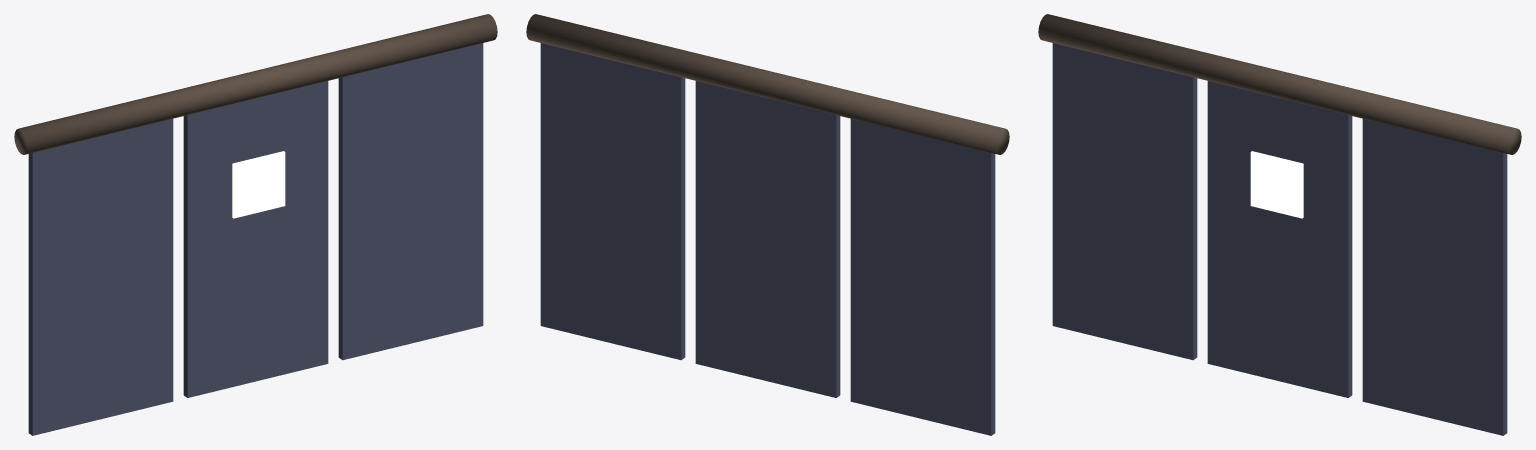
The model's file is prop_noren.glb.
3 views of the same model, side by side, from view 1: azimuth 30°, elevation 25°; view 2: azimuth 150°, elevation 25°; view 3: azimuth 330°, elevation 25° (orthographic).
Parts seen in each view (by area): view 1: noren; view 2: noren; view 3: noren.
Boxes of the visible parts, x1,y1,x2,y2 form: noren: (14,14,497,435); noren: (526,14,1009,435); noren: (1038,14,1521,435).
Size of the model in its own units: 2 by 1.25 by 0.1.
